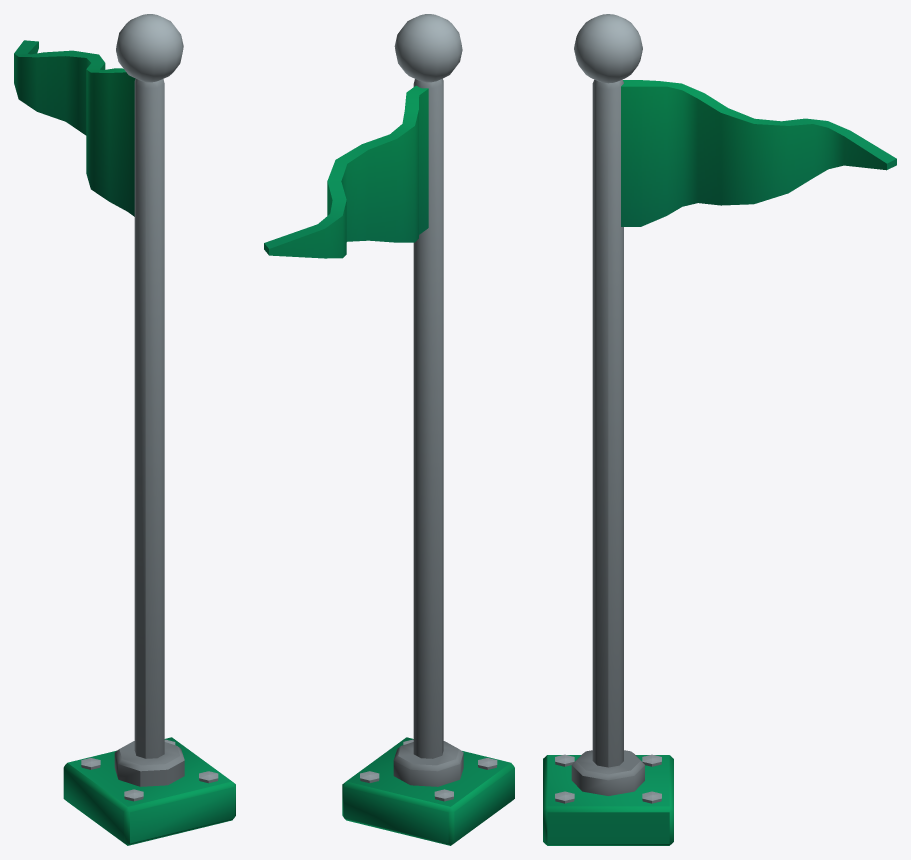
The model's file is flag_C_green.glb.
3 views of the same model, side by side, from view 1: azimuth 30°, elevation 25°; view 2: azimuth 150°, elevation 25°; view 3: azimuth 270°, elevation 25° (orthographic).
Visible parts, largest first — view 1: flag_C_green; view 2: flag_C_green; view 3: flag_C_green.
Part boxes in pixels (x1=…): flag_C_green: x1=14, y1=14, x2=235, y2=845; flag_C_green: x1=264, y1=14, x2=514, y2=845; flag_C_green: x1=543, y1=14, x2=896, y2=845.
Bounding box in the file's own units: 0.6 × 4.06 × 1.62.
Materials: 1 (1 with a texture image).
